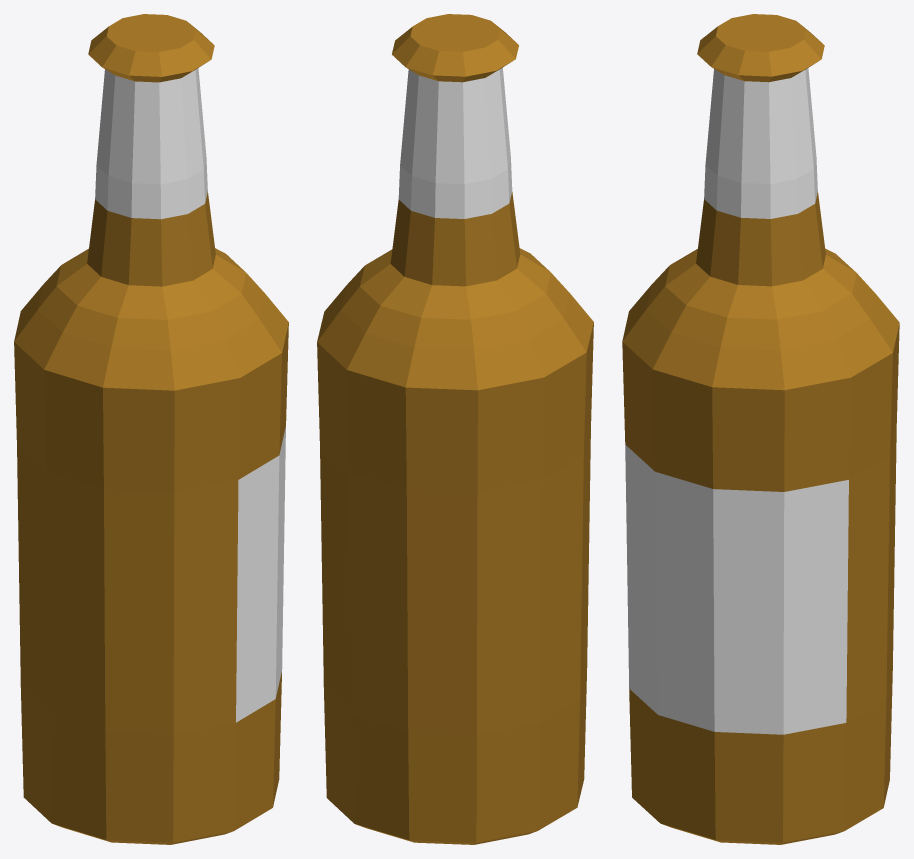
Rendered from LowPolyBottle1.glb.
3 renders of one model, left to right at view 1: azimuth 30°, elevation 25°; view 2: azimuth 150°, elevation 25°; view 3: azimuth 270°, elevation 25°, orthographic.
Parts seen in each view (by area): view 1: Cylinder; view 2: Cylinder; view 3: Cylinder.
Part boxes in pixels (left/top/right/bottom): Cylinder: left=14, top=14, right=288, bottom=844; Cylinder: left=317, top=14, right=593, bottom=844; Cylinder: left=622, top=14, right=899, bottom=844.
Size of the model in its own units: 0.6861 by 2.1 by 0.6907.
